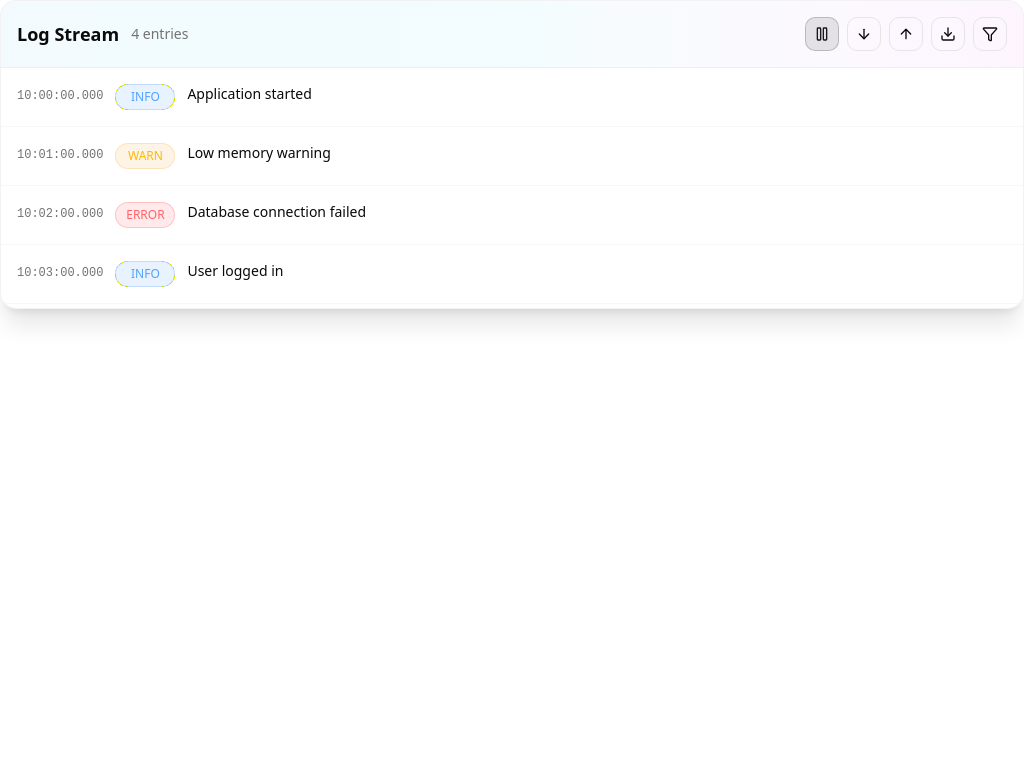
Scenario: LogStream Component › should handle search functionality
Open filters first to show search
Click the button titled "Toggle filters".
click(990, 34)  # box [973, 17, 1007, 51]
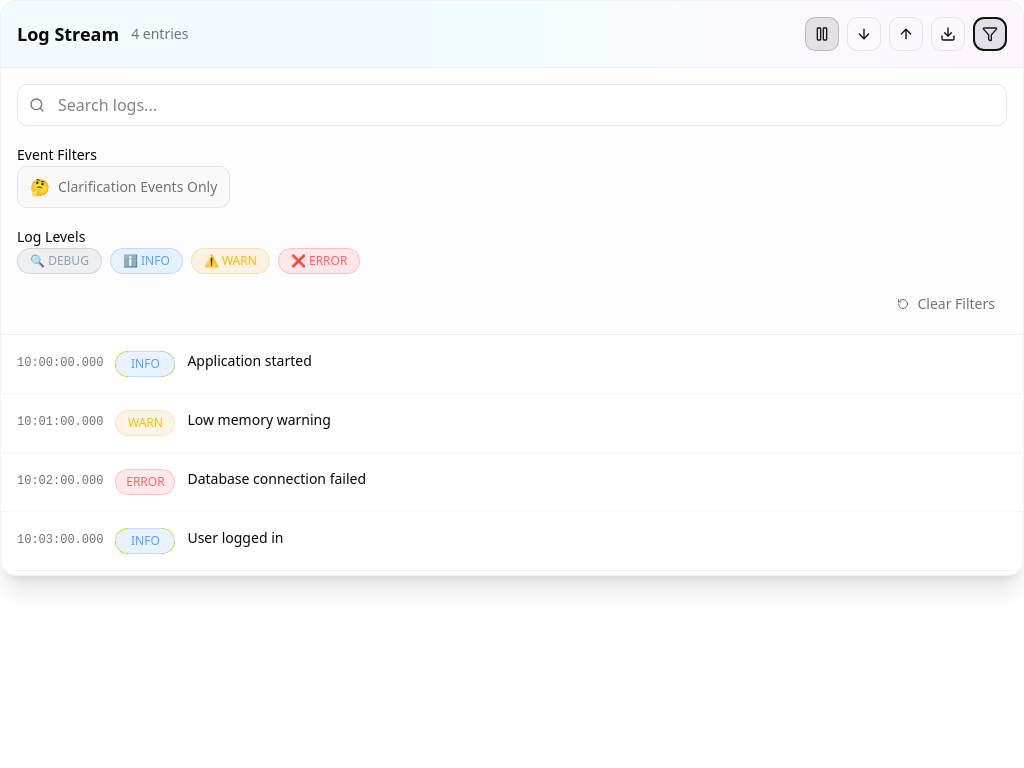
Type "Database" into the field with placeholder "Search logs...".
click(512, 105); type("Database")  # box [17, 84, 1007, 126]
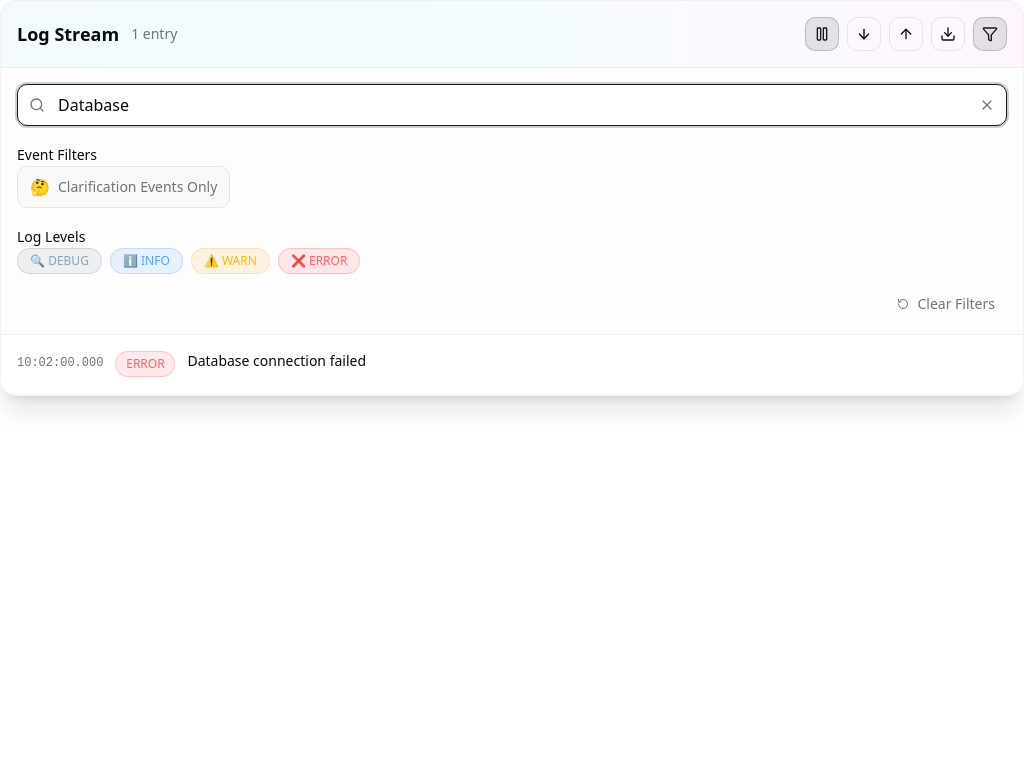
expect the text "Database connection failed" is shown: met, box [187, 351, 366, 370]
expect the text "Application started" is gone: met
